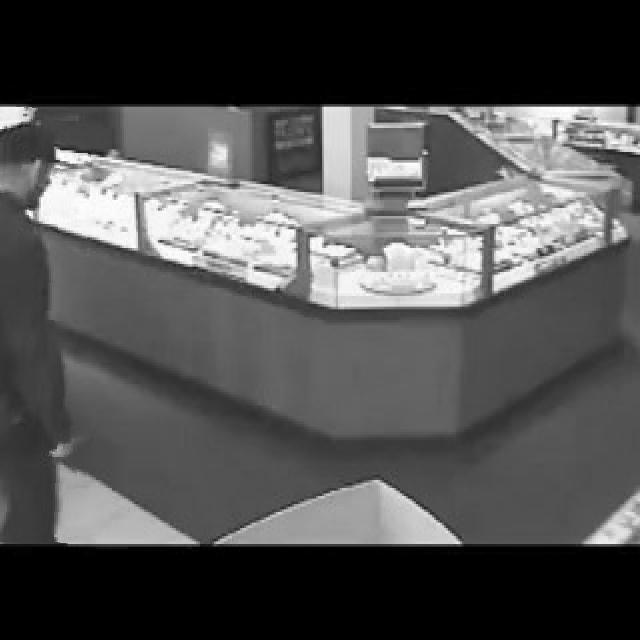normal: (0, 107, 89, 542)
